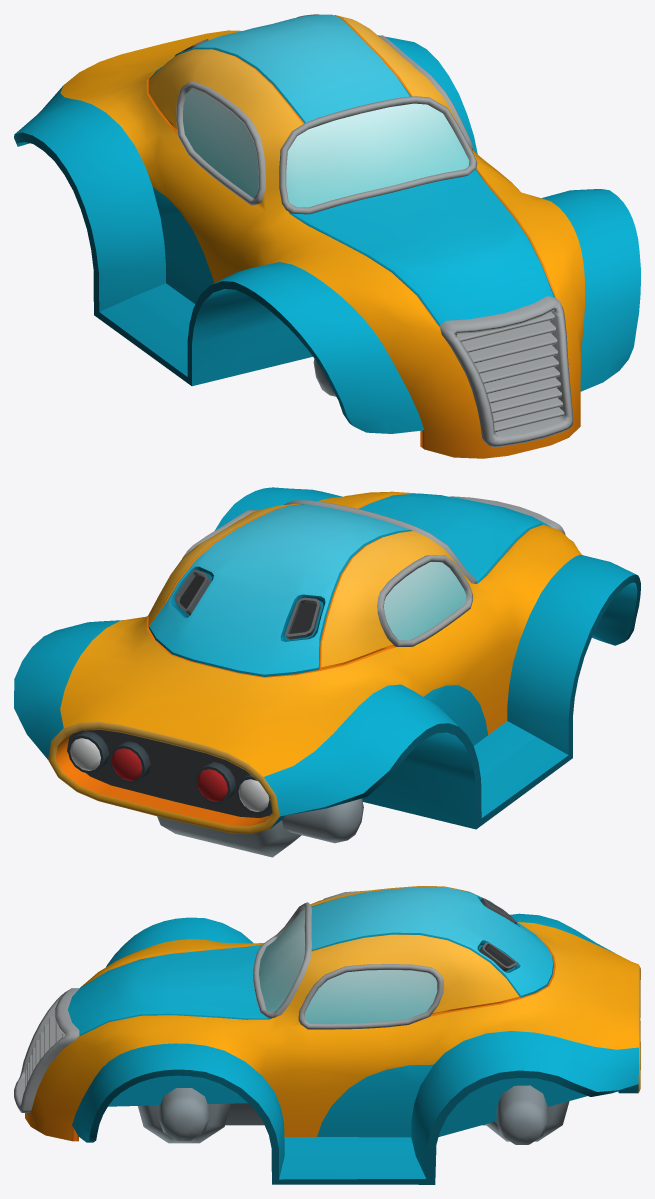
Rendered from Car_08.fbx.
3 views of the same model, one above another, from view 1: azimuth 30°, elevation 25°; view 2: azimuth 150°, elevation 25°; view 3: azimuth 270°, elevation 25° (orthographic). The views are drawn at different scales.
Parts seen in each view (by area): view 1: Car_08; view 2: Car_08; view 3: Car_08.
Boxes of the visible parts, x1,y1,x2,y2 form: Car_08: (14, 14, 640, 458); Car_08: (14, 487, 640, 857); Car_08: (14, 886, 640, 1184).
Size of the model in its own units: 225 by 381 by 146.
